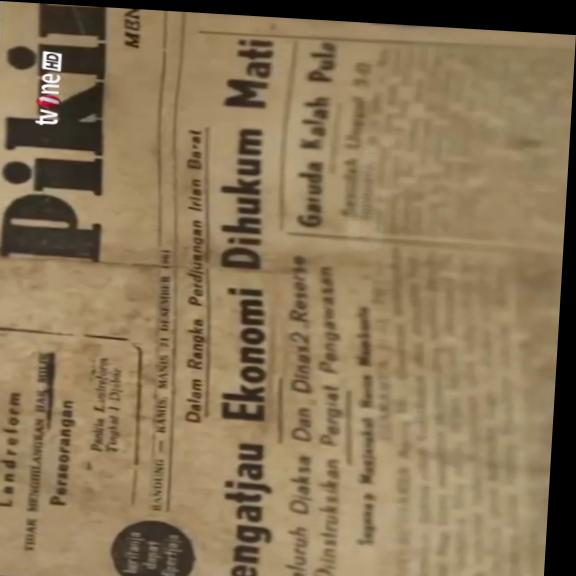Kertas: (0, 6, 575, 576), (0, 324, 156, 576)
